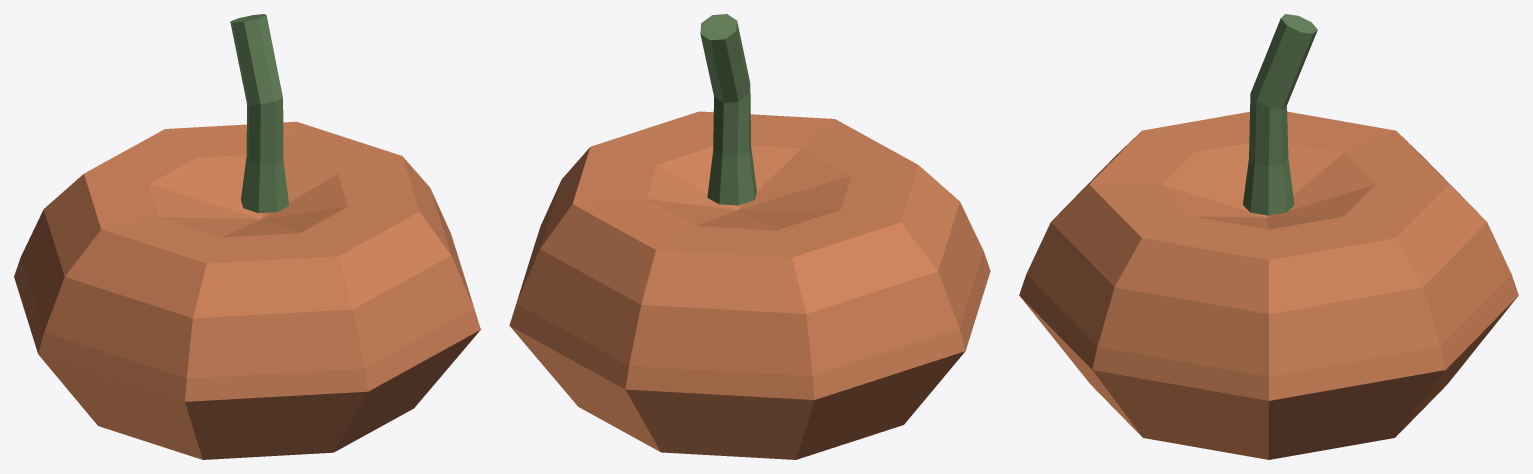
The model's file is Pumpkin.fbx.
3 renders of one model, left to right at view 1: azimuth 30°, elevation 25°; view 2: azimuth 150°, elevation 25°; view 3: azimuth 270°, elevation 25°, orthographic. The views are drawn at different scales.
Parts seen in each view (by area): view 1: Pumpkin; view 2: Pumpkin; view 3: Pumpkin.
Boxes of the visible parts, left/top/right/bottom form: Pumpkin: left=14, top=14, right=480, bottom=459; Pumpkin: left=509, top=14, right=990, bottom=459; Pumpkin: left=1019, top=14, right=1518, bottom=459.
Size of the model in its own units: 263 by 222 by 263.
